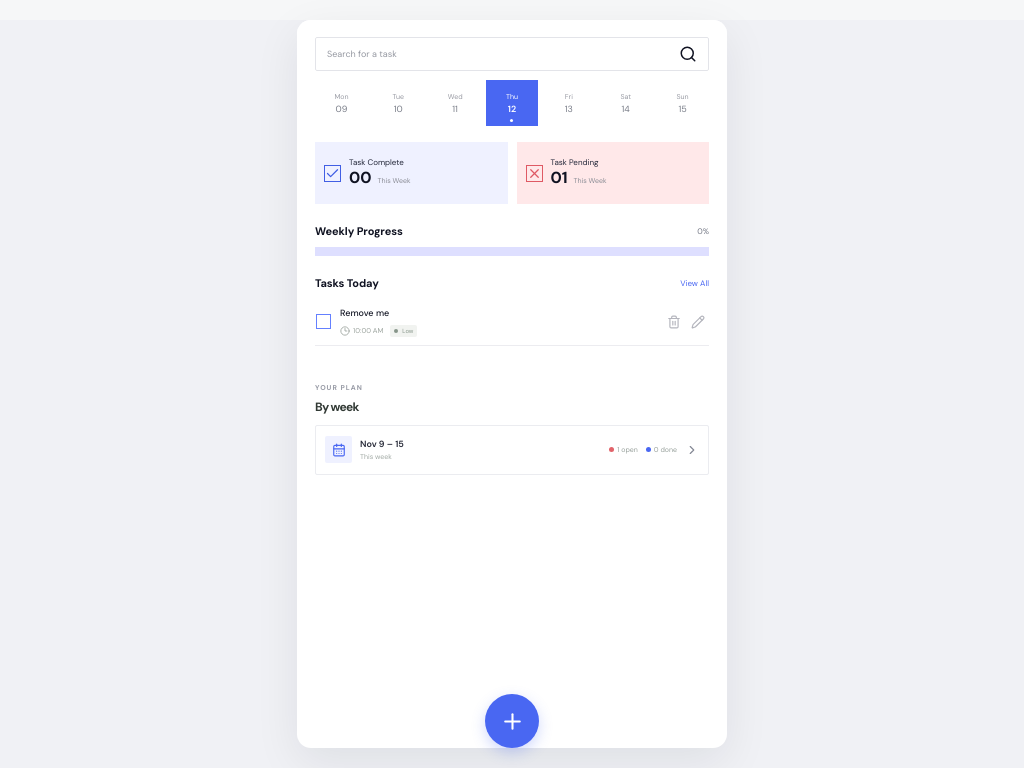
Weekwise planner › deletes a task after confirmation
expect the heading "Remove me" is shown: met, box [340,307,389,319]
Click the button named "Delete Remove me": (674, 322) [664,310,684,334]
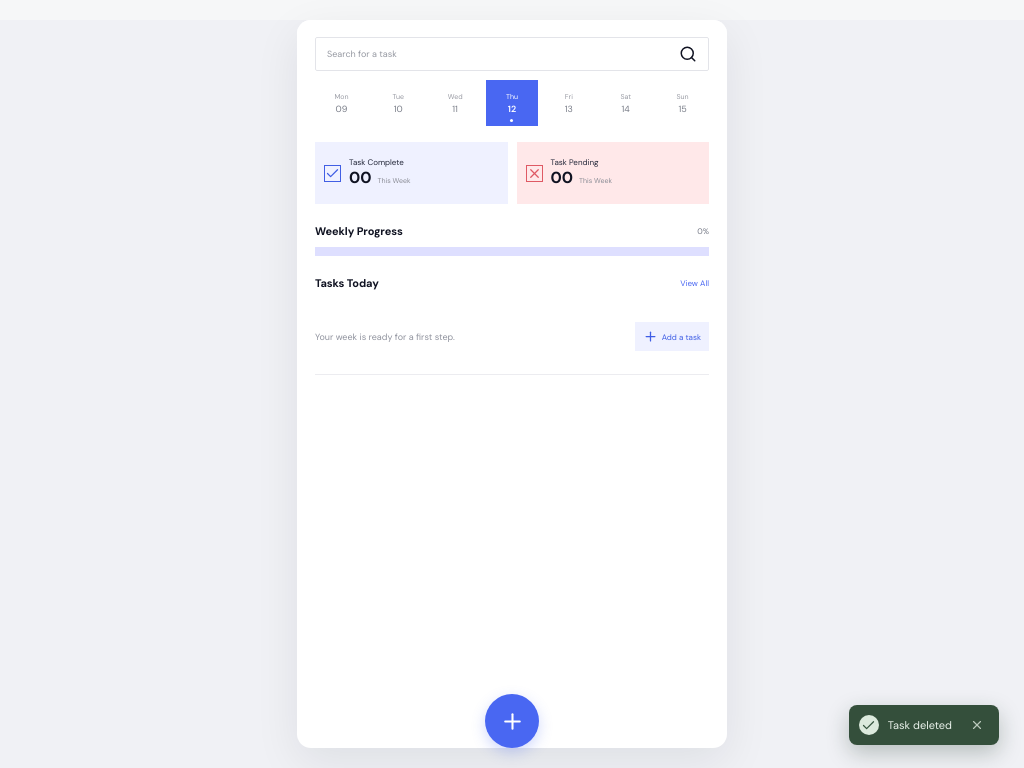
expect the text "Your week is ready for a first step." is shown: met, box [315,330,455,342]
